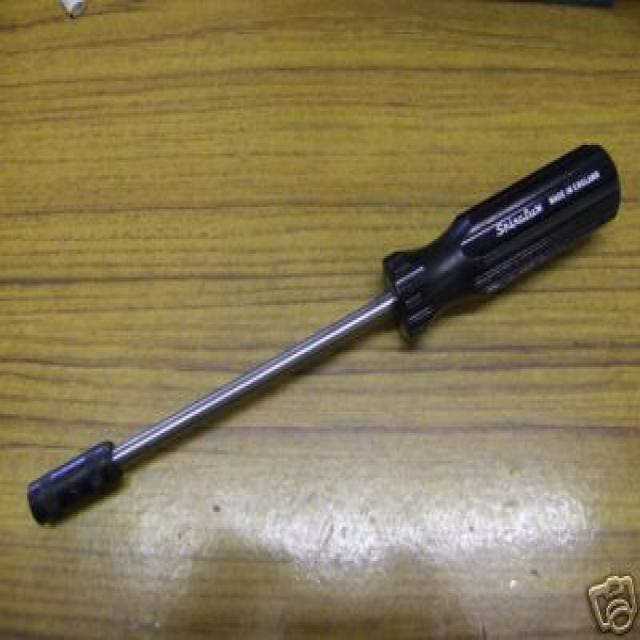screwdriver: (12, 124, 630, 552)
